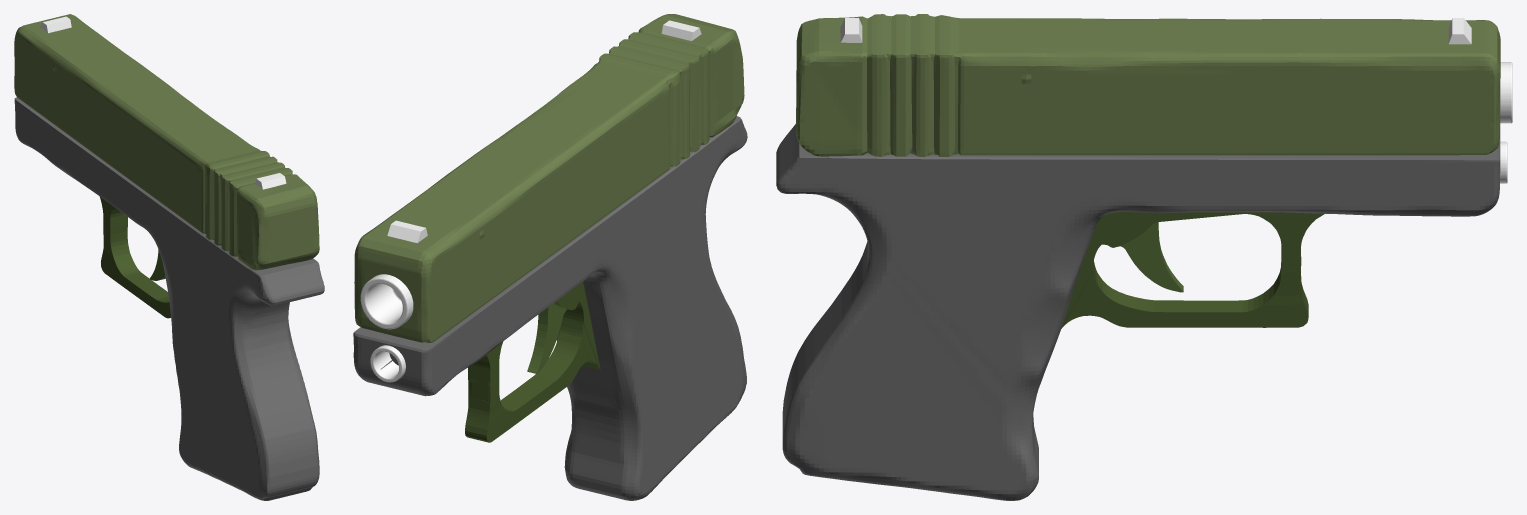
The model's file is aproapegloc.glb.
The picture shows the model from 3 angles, left to right: view 1: azimuth 30°, elevation 25°; view 2: azimuth 150°, elevation 25°; view 3: azimuth 270°, elevation 25°; orthographic projection. The views are drawn at different scales.
Visible parts, largest first — view 1: Cube.001, Cube, Cube.002, Cube.004; view 2: Cube.001, Cube, Cube.002, Cylinder, Cube.003, Cube.004, Cylinder.001; view 3: Cube.001, Cube, Cube.002, Cube.003, Cube.004, Cylinder.
Boxes of the visible parts, bbox=[...] form: Cube.001: bbox=[14, 97, 324, 500]; Cube: bbox=[14, 14, 319, 270]; Cube.002: bbox=[100, 197, 170, 318]; Cube.004: bbox=[40, 16, 286, 189]; Cube.001: bbox=[353, 116, 747, 500]; Cube: bbox=[354, 14, 744, 342]; Cube.002: bbox=[465, 282, 600, 442]; Cylinder: bbox=[360, 274, 413, 329]; Cube.003: bbox=[527, 303, 566, 373]; Cube.004: bbox=[387, 20, 701, 243]; Cylinder.001: bbox=[370, 345, 405, 382]; Cube.001: bbox=[776, 124, 1500, 500]; Cube: bbox=[796, 14, 1500, 156]; Cube.002: bbox=[1061, 212, 1324, 328]; Cube.003: bbox=[1121, 222, 1183, 292]; Cube.004: bbox=[840, 18, 1471, 44]; Cylinder: bbox=[1500, 62, 1512, 123].
Size of the model in its own units: 2.09 by 10.5 by 15.26.
